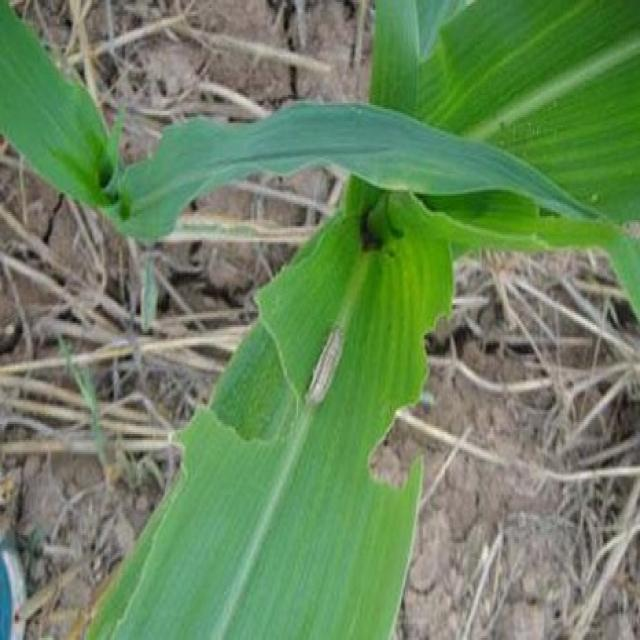army worm: (303, 318, 347, 415)
